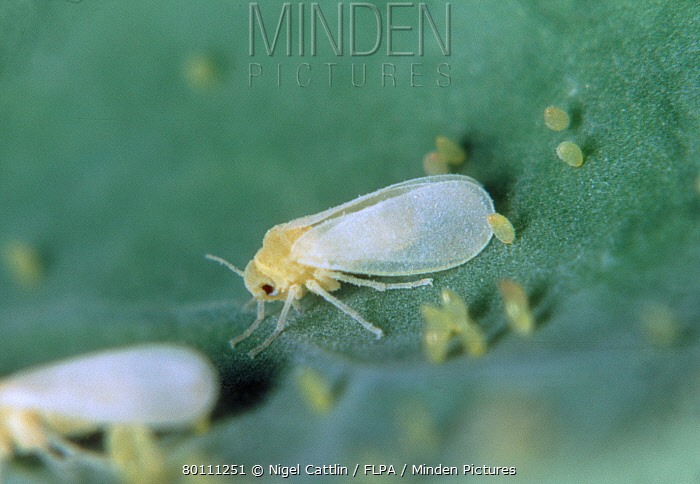Tobacco Whitefly: (214, 168, 511, 329)
